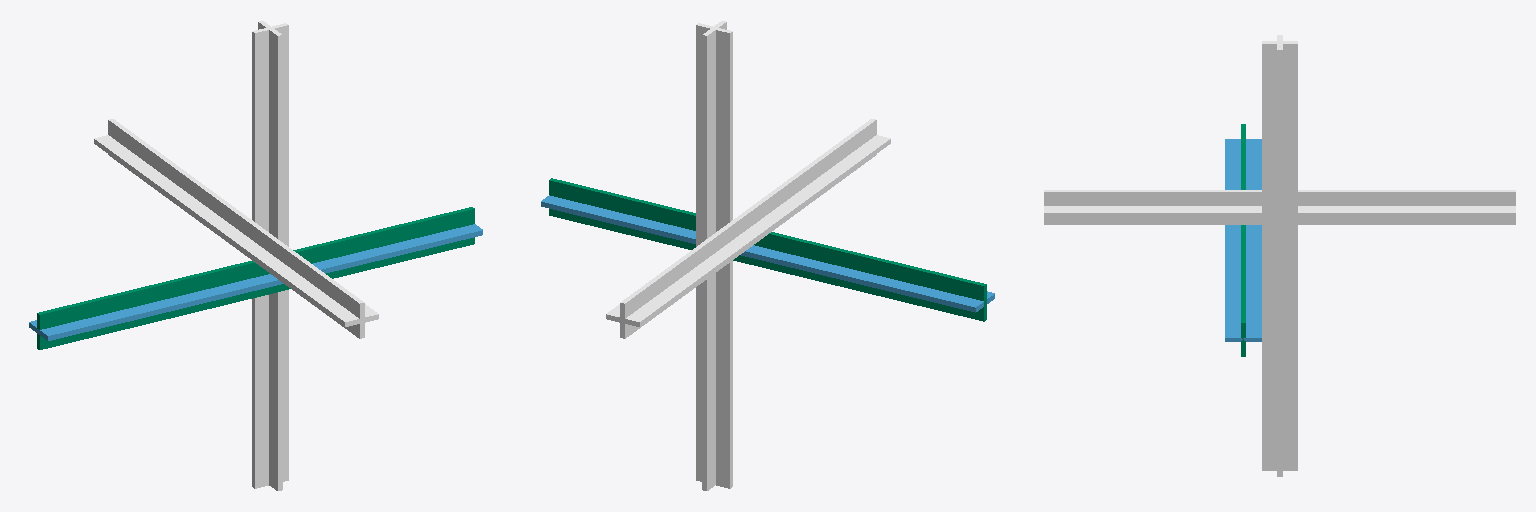
URDF robot description (chech):
<?xml version="1.0" ?>

<robot name="chech">

    <link name="base_link"></link>

    <joint name="base_joint" type="fixed">
        <parent link="base_link"/>                                                                      
        <child link="platex"/>
        <origin xyz= "0 0 0" rpy="0 0 0" />
    </joint>
      
    <link name="platex">
        <visual>
  	    <origin xyz="0 0 0" rpy="0 0 0" />
	    <geometry> <box size="1.8 0.14 0.02"/> </geometry>
	</visual>
	<collision>
	    <origin xyz="0 0 0" rpy="0 0 0" />
	    <geometry> <box size="1.8 0.14 0.02"/> </geometry>
	</collision>
	<inertial>
	    <origin xyz="0 0 0" rpy="0 0 0" />
	    <mass value="30" />
	    <inertia ixx="0.01" ixy="0" ixz="0" iyy="0.01" iyz="0" izz="0.01" />
	</inertial>
    </link>
    <gazebo reference="platex"> <material>Gazebo/Red</material> </gazebo>

    <joint name="joint0" type="fixed">
        <parent link="platex"/>
	<child  link="platex2"/>
	<origin xyz="0 0 0" rpy="0 0 0"/>
    </joint>

    <link name="platex2">
        <visual>
  	    <origin xyz="0 0 0" rpy="0 0 0" />
	    <geometry> <box size="1.8 0.02 0.14"/> </geometry>
	</visual>
	<collision>
	    <origin xyz="0 0 0" rpy="0 0 0" />
	    <geometry> <box size="1.8 0.02 0.14"/> </geometry>
	</collision>
	<inertial>
	    <origin xyz="0 0 0" rpy="0 0 0" />
	    <mass value="30" />
	    <inertia ixx="0.01" ixy="0" ixz="0" iyy="0.01" iyz="0" izz="0.01" />
	</inertial>
    </link>
    <gazebo reference="platex2"> <material>Gazebo/Red</material> </gazebo>

    <joint name="joint1" type="fixed">
        <parent link="platex"/>
	<child  link="platey"/>
	<origin xyz="0 0.14 0.14" rpy="0 0 0"/>
    </joint>

    <link name="platey">
        <visual>
	    <origin xyz="0 0 0" rpy="0 0 0" />
	    <geometry> <box size="0.02 1.8 0.14"/> </geometry>
	    <material name=""> <color rgba="1.0 1.0 1.0 1.0" /> </material>
	</visual>
	<collision>
            <origin xyz="0 0 0" rpy="0 0 0" />
	    <geometry> <box size="0.02 1.8 0.14"/> </geometry>
	</collision>
	<inertial>
	    <origin xyz="0 0 0" rpy="0 0 0" />
	    <mass value="30" />
	    <inertia ixx="0.01" ixy="0" ixz="0" iyy="0.01" iyz="0" izz="0.01" />
	</inertial>
    </link>
    <gazebo reference="platey"> <material>Gazebo/Green</material> </gazebo>

    <joint name="joint12" type="fixed">
        <parent link="platey"/>
	<child  link="platey2"/>
	<origin xyz="0 0 0" rpy="0 0 0"/>
    </joint>

    <link name="platey2">
        <visual>
	    <origin xyz="0 0 0" rpy="0 0 0" />
	    <geometry> <box size="0.14 1.8 0.02"/> </geometry>
	    <material name=""> <color rgba="1.0 1.0 1.0 1.0" /> </material>
	</visual>
	<collision>
            <origin xyz="0 0 0" rpy="0 0 0" />
	    <geometry> <box size="0.14 1.8 0.02"/> </geometry>
	</collision>
	<inertial>
	    <origin xyz="0 0 0" rpy="0 0 0" />
	    <mass value="30" />
	    <inertia ixx="0.01" ixy="0" ixz="0" iyy="0.01" iyz="0" izz="0.01" />
	</inertial>
    </link>
    <gazebo reference="platey2"> <material>Gazebo/Green</material> </gazebo>

    <joint name="joint2" type="fixed">
        <parent link="platex"/>
	<child  link="platez"/>
	<origin xyz="0.14 0.14 0" rpy="0 0 0"/>
    </joint>

    <link name="platez">
        <visual>
	    <origin xyz="0 0 0" rpy="0 0 0" />
	    <geometry> <box size="0.02 0.14 1.8"/> </geometry>
	    <material name=""> <color rgba="1.0 1.0 1.0 1.0" /> </material>
	</visual>
	<collision>
            <origin xyz="0 0 0" rpy="0 0 0" />
	    <geometry> <box size="0.02 0.14 1.8"/> </geometry>
	</collision>
	<inertial>
	    <origin xyz="0 0 0" rpy="0 0 0" />
	    <mass value="30" />
	    <inertia ixx="0.01" ixy="0" ixz="0" iyy="0.01" iyz="0" izz="0.01" />
	</inertial>
    </link>
    <gazebo reference="platez"> <material>Gazebo/Blue</material> </gazebo>

    <joint name="joint22" type="fixed">
        <parent link="platez"/>
	<child  link="platez2"/>
	<origin xyz="0 0 0" rpy="0 0 0"/>
    </joint>

    <link name="platez2">
        <visual>
	    <origin xyz="0 0 0" rpy="0 0 0" />
	    <geometry> <box size="0.14 0.02 1.8"/> </geometry>
	    <material name=""> <color rgba="1.0 1.0 1.0 1.0" /> </material>
	</visual>
	<collision>
            <origin xyz="0 0 0" rpy="0 0 0" />
	    <geometry> <box size="0.14 0.02 1.8"/> </geometry>
	</collision>
	<inertial>
	    <origin xyz="0 0 0" rpy="0 0 0" />
	    <mass value="60" />
	    <inertia ixx="0.01" ixy="0" ixz="0" iyy="0.01" iyz="0" izz="0.01" />
	</inertial>
    </link>
    <gazebo reference="platez2"> <material>Gazebo/Blue</material> </gazebo>

</robot>

--- Facts derived from the render (not from the file) ---
Views: 3 orthographic renders of the robot side by side, from view 1: azimuth 30°, elevation 25°; view 2: azimuth 150°, elevation 25°; view 3: azimuth 270°, elevation 25°.
Model chech with 7 links and 6 joints (6 fixed), rooted at base_link, posed all joints at 0.
Visible links, largest first — view 1: platex2, platez2, platez, platey, platex, platey2; view 2: platez2, platex2, platez, platey, platex, platey2; view 3: platez, platey, platex, platey2, platez2, platex2.
Boxes of the visible links, x1,y1,x2,y2 form: platex2: (37,207,474,349); platez2: (252,23,288,488); platez: (258,21,282,490); platey: (108,119,364,338); platex: (29,224,482,340); platey2: (94,135,378,326); platez2: (696,23,732,488); platex2: (549,178,986,321); platez: (702,21,726,490); platey: (620,119,876,338); platex: (541,195,994,312); platey2: (606,135,890,326); platez: (1262,41,1297,470); platey: (1044,190,1515,224); platex: (1225,139,1261,341); platey2: (1044,206,1515,216); platez2: (1277,35,1282,476); platex2: (1241,124,1245,356).
Bounding box of the posed robot: 1.8 × 1.8 × 1.8 m (x, y, z).
Geometry: primitives only (box / cylinder / sphere), no mesh files.
